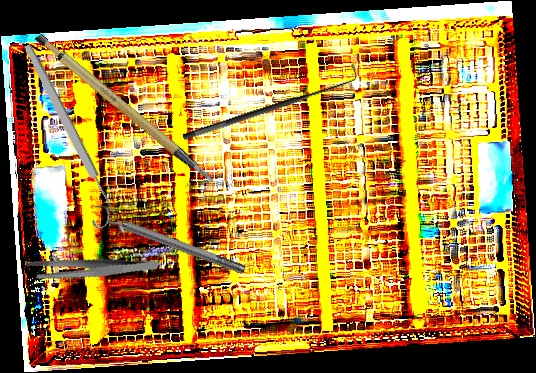Dressing Forceps: (22, 231, 161, 306)
Fixation Ring: (90, 202, 249, 283)
Hook Surgical: (177, 62, 363, 144)
Scalpel Handle: (31, 11, 216, 210)
Surgical Spoon: (21, 42, 129, 236)
